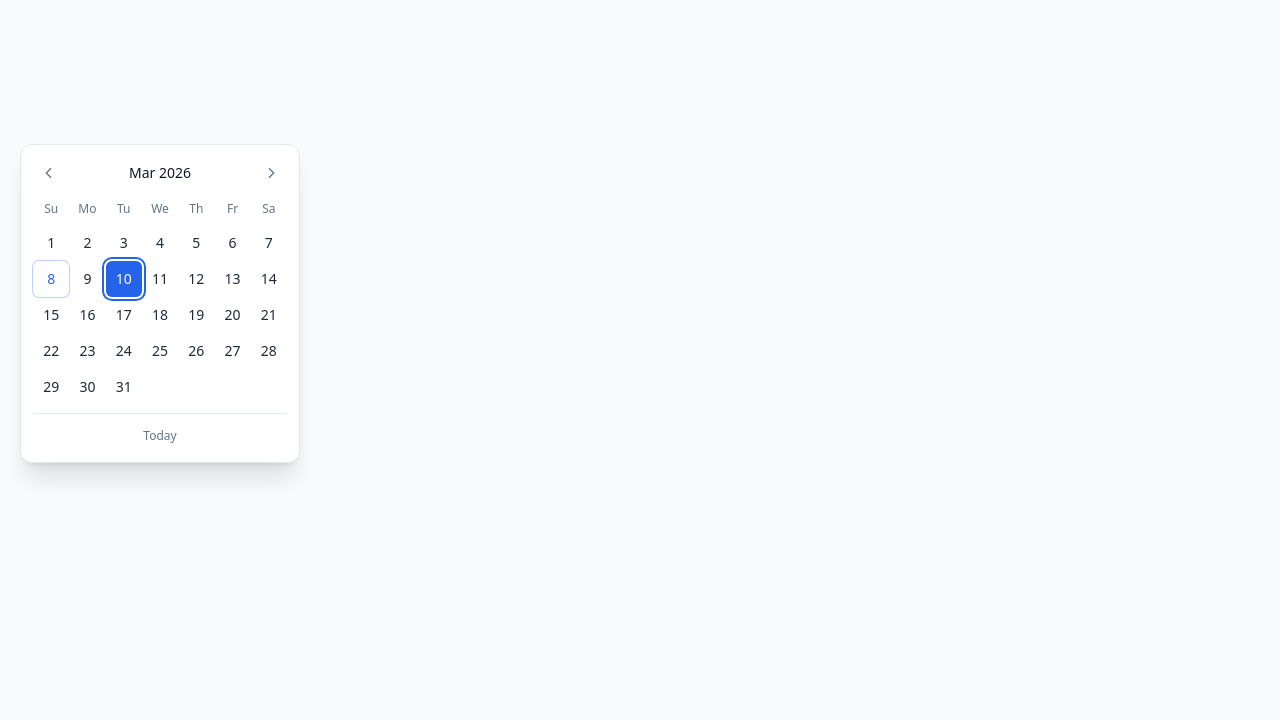
Test case: CalendarPopup › month navigation › navigates to previous month
The width and height of the screenshot is (1280, 720).
Expected: the text "Mar 2026" is shown, x1=129 y1=163 x2=191 y2=183
Click the button named "Previous month" at (49, 173), box x1=33 y1=157 x2=65 y2=189
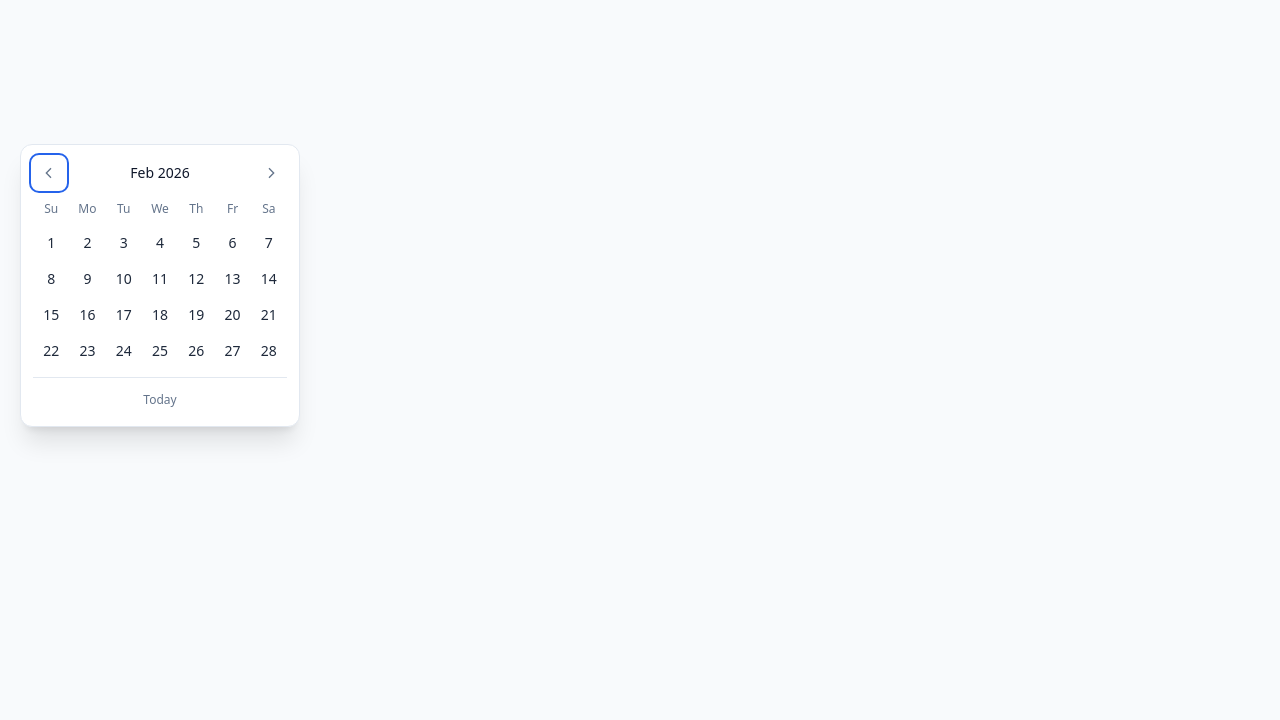
Expected: the text "Feb 2026" is shown, x1=130 y1=163 x2=190 y2=183
